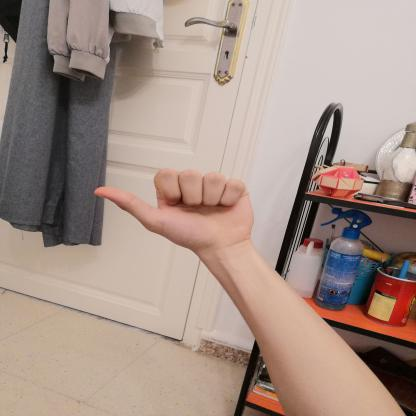DAD: (77, 160, 264, 258)
